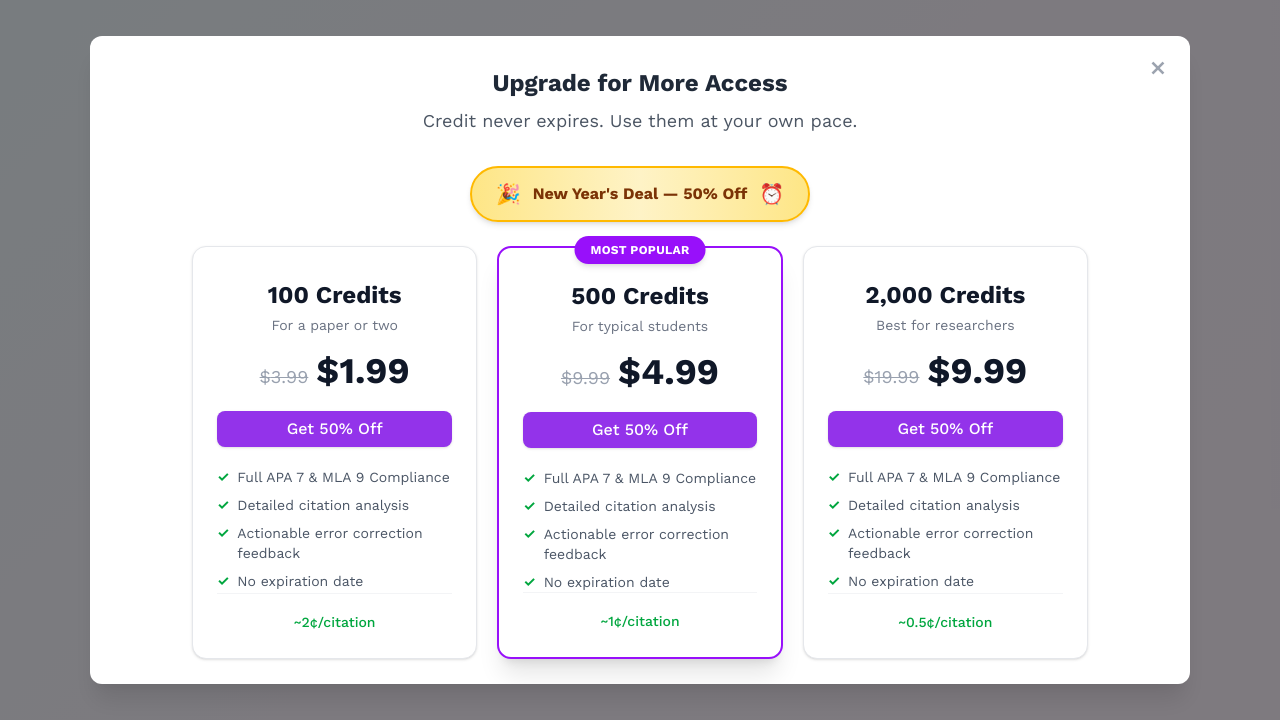
Test: UpgradeModal › should show error message when checkout fails
The width and height of the screenshot is (1280, 720).
Check: the heading "Upgrade for More Access" is shown, box x1=492 y1=69 x2=788 y2=97
Click the button "Get 50% Off" below "1.99" at (335, 429), box x1=217 y1=411 x2=452 y2=447
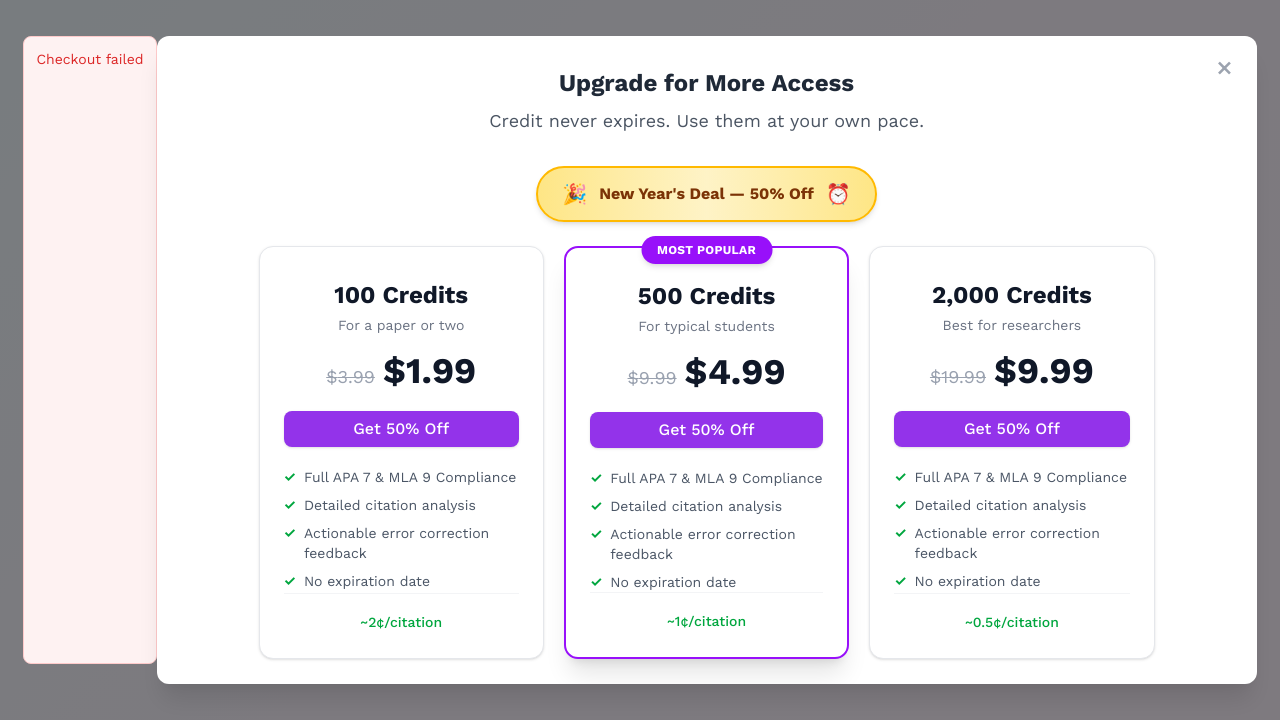
Check: the text "Checkout failed" is shown, box x1=23 y1=36 x2=157 y2=664
